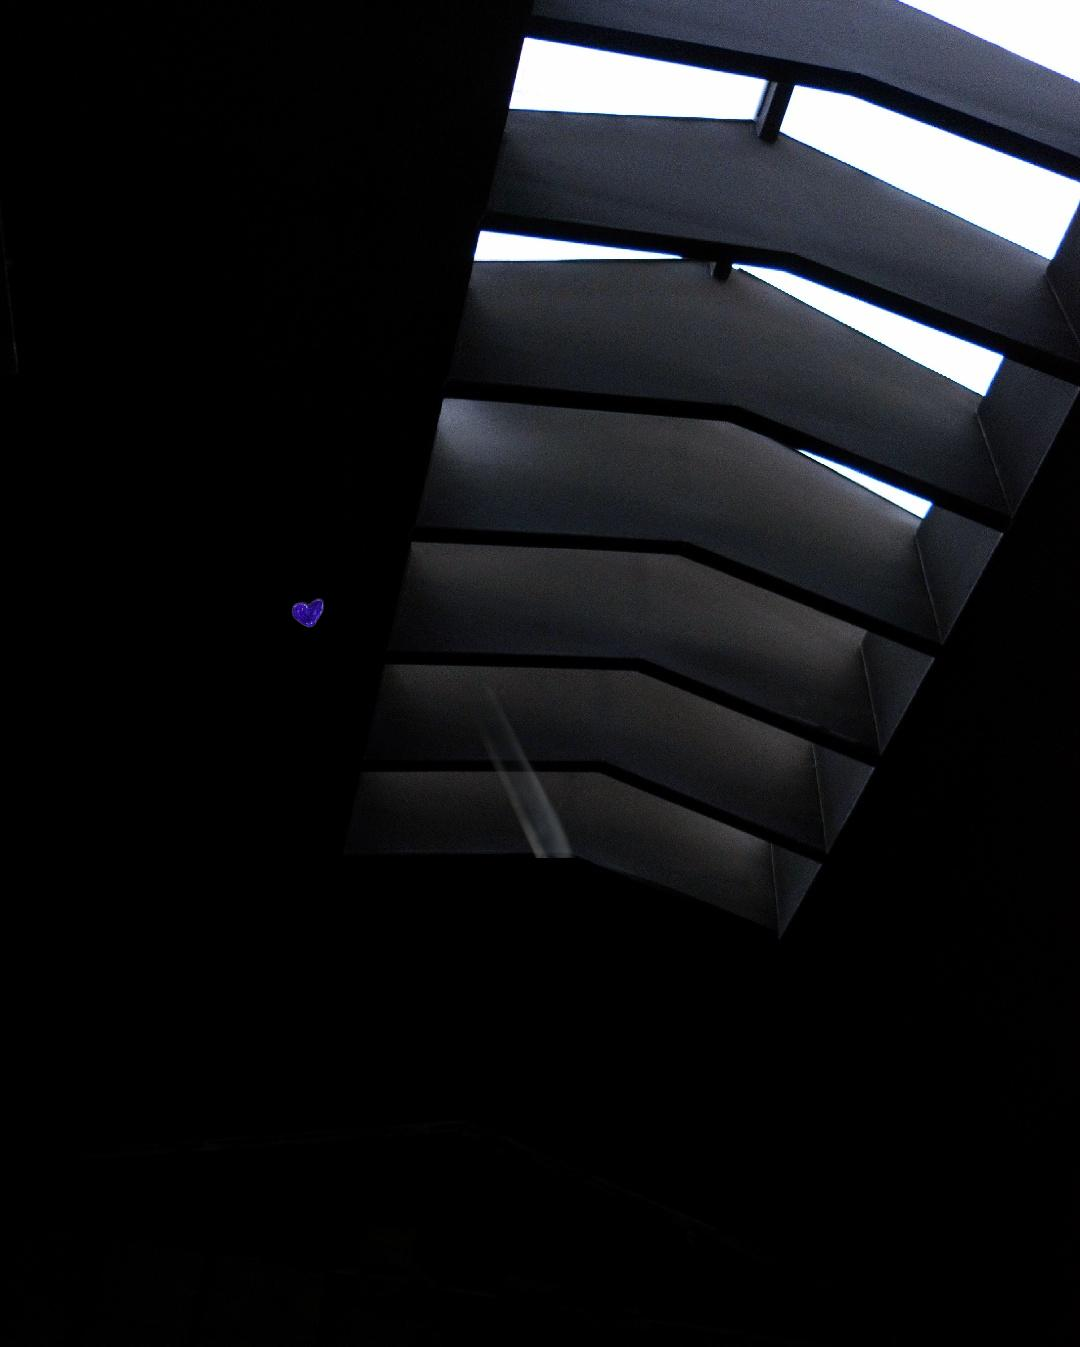penholder: (290, 595, 605, 858)
